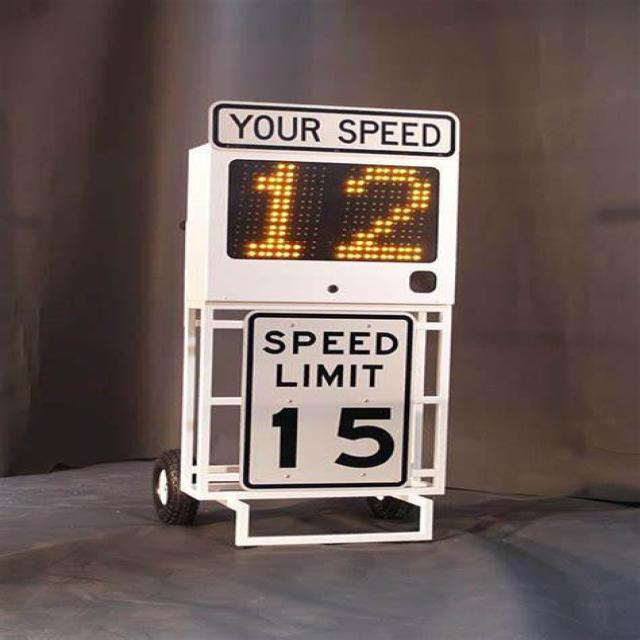speedLimit15: (177, 91, 469, 494)
